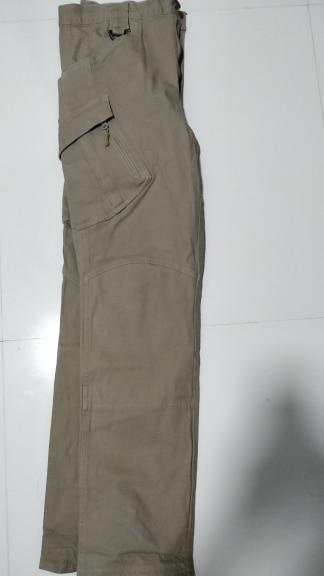pants: (41, 2, 203, 576)
